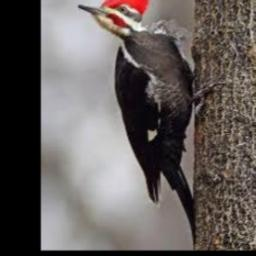Woodpecker: (79, 0, 225, 248)
